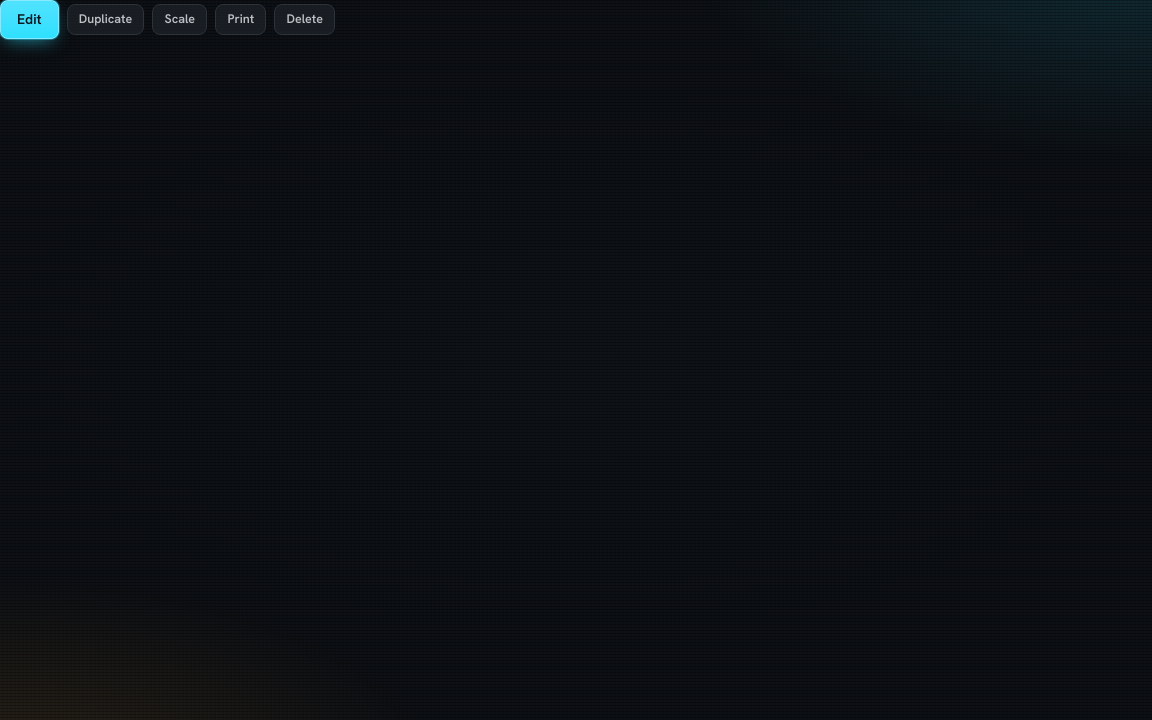
RecipeActions — Scale modal › shows a live before → after preview in batch-size mode
The image size is (1152, 720).
Click the button "Scale": (180, 19) 152,4 -> 207,35
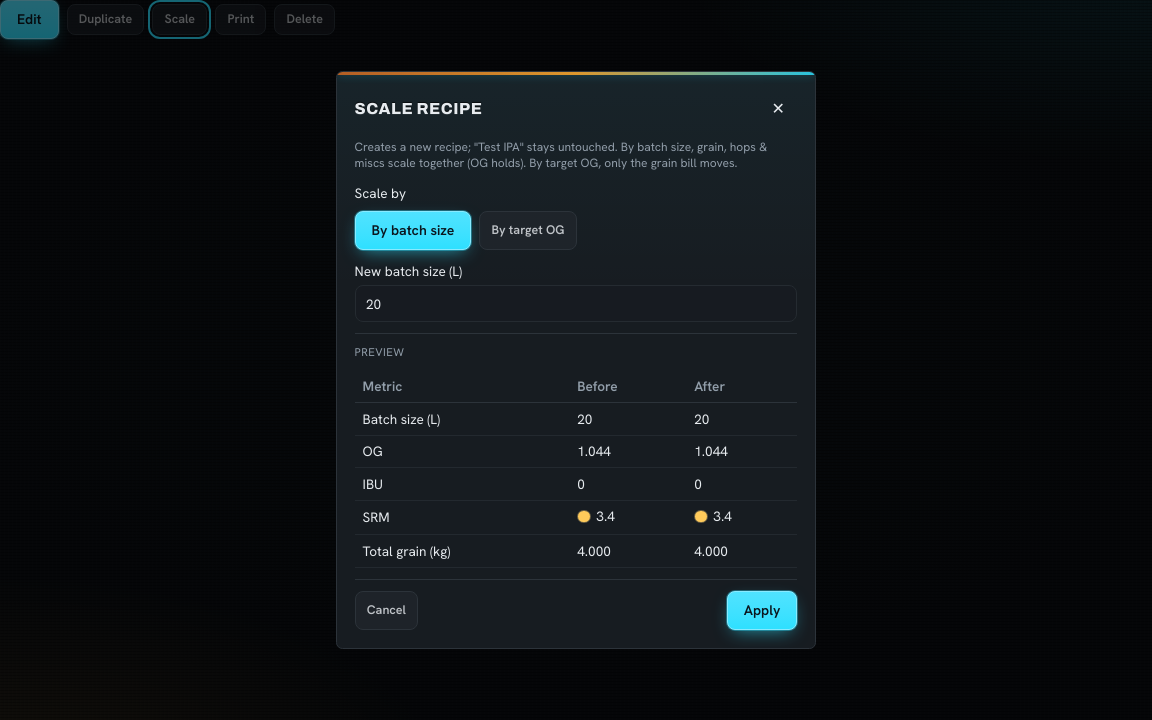
Clear the number field labelled "New batch size (L)": (576, 304) 355,286 -> 797,322
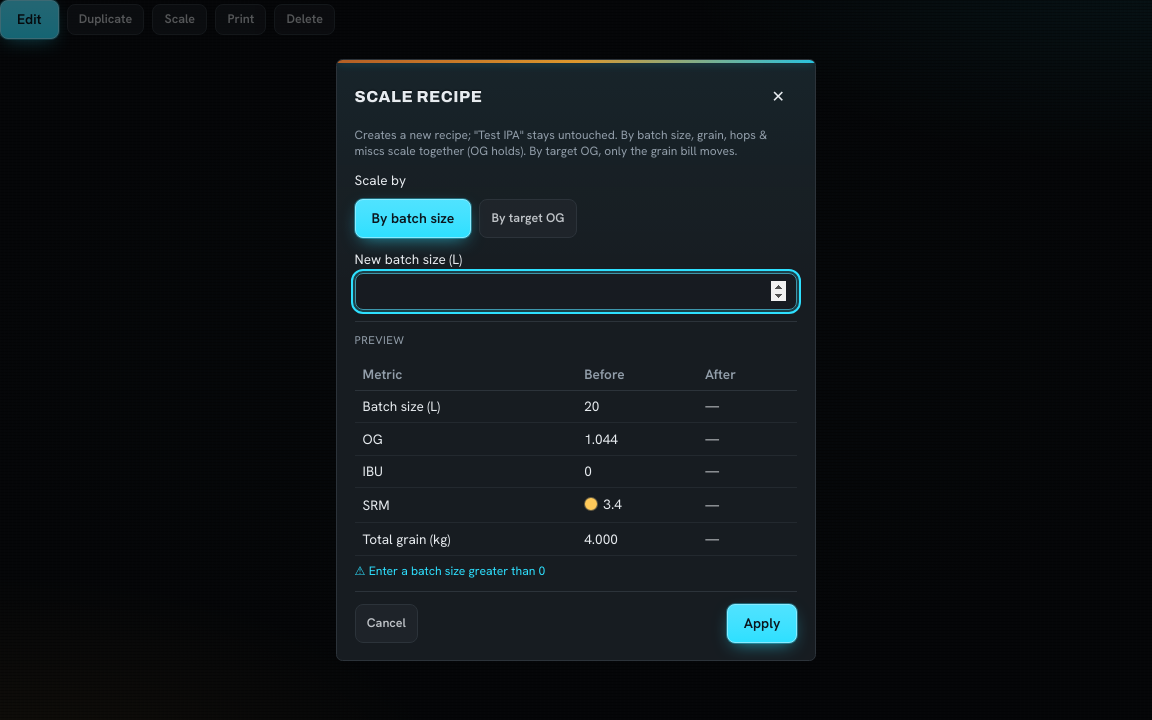
In the number field labelled "New batch size (L)": (576, 292) 355,273 -> 797,310, type "40"
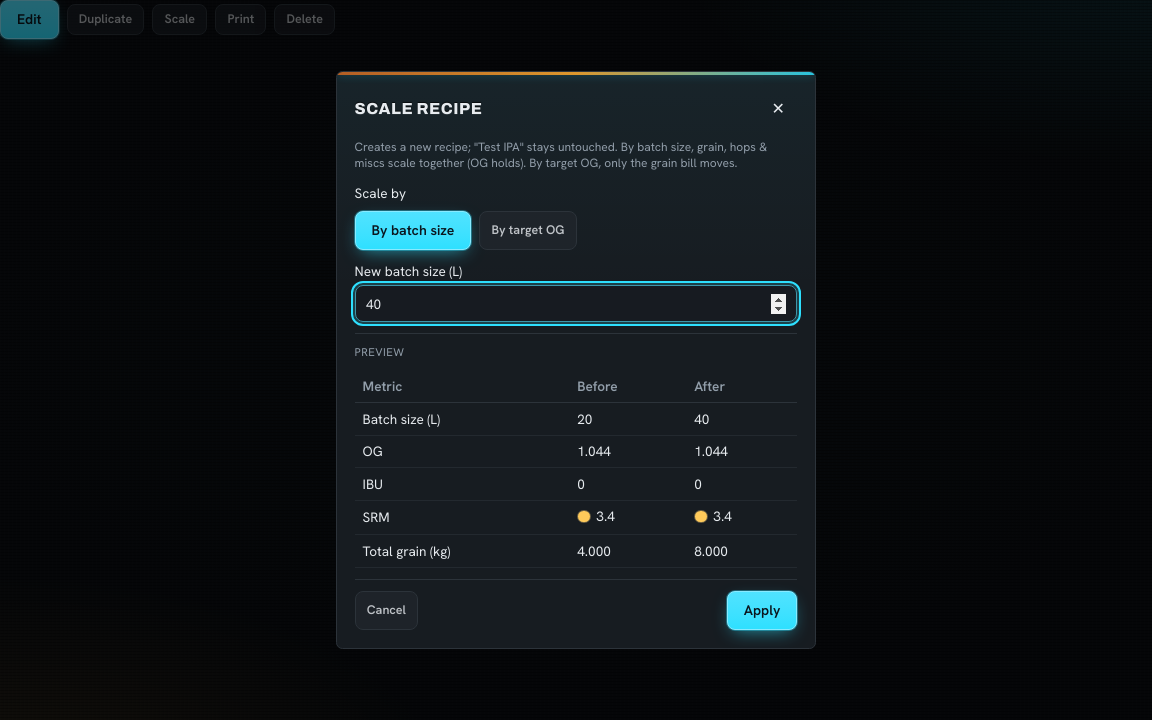
Now the text "4.000" is shown, box 569,535 -> 686,567
Now the column heading "Before" is shown, box 569,370 -> 686,402
Now the text "8.000" is shown, box 686,535 -> 798,567
